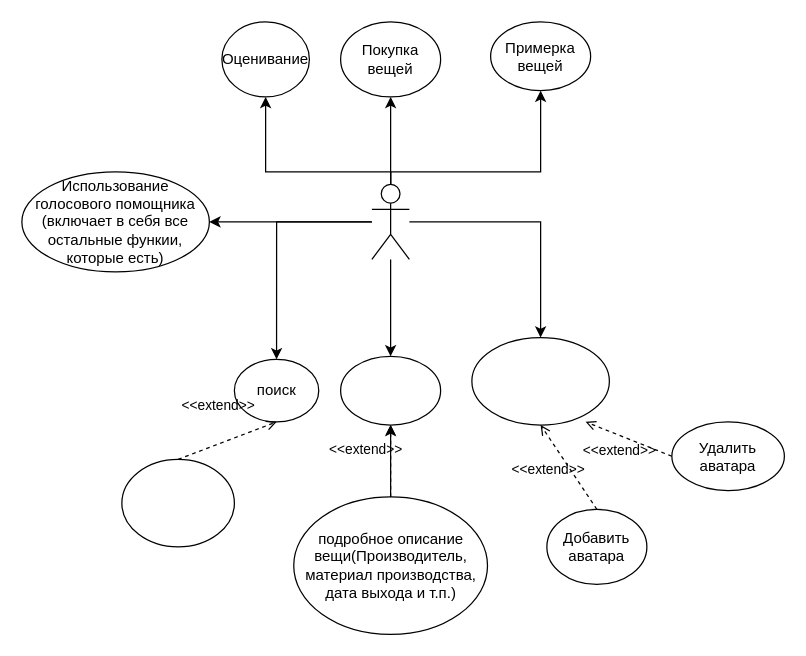
This 806x656 diagram has some shape labels left out. The shapes that lost their labels are listed below. From the top down, each one's centre as x and y in pixels, then its label:
At pixel 390 221: "Пользователь".
At pixel 390 390: "Просмотр вещей".
At pixel 540 380: "Загрузка аватара из базы данных пользователя".
At pixel 177 502: "Расширенный поиск(фильтры)".
